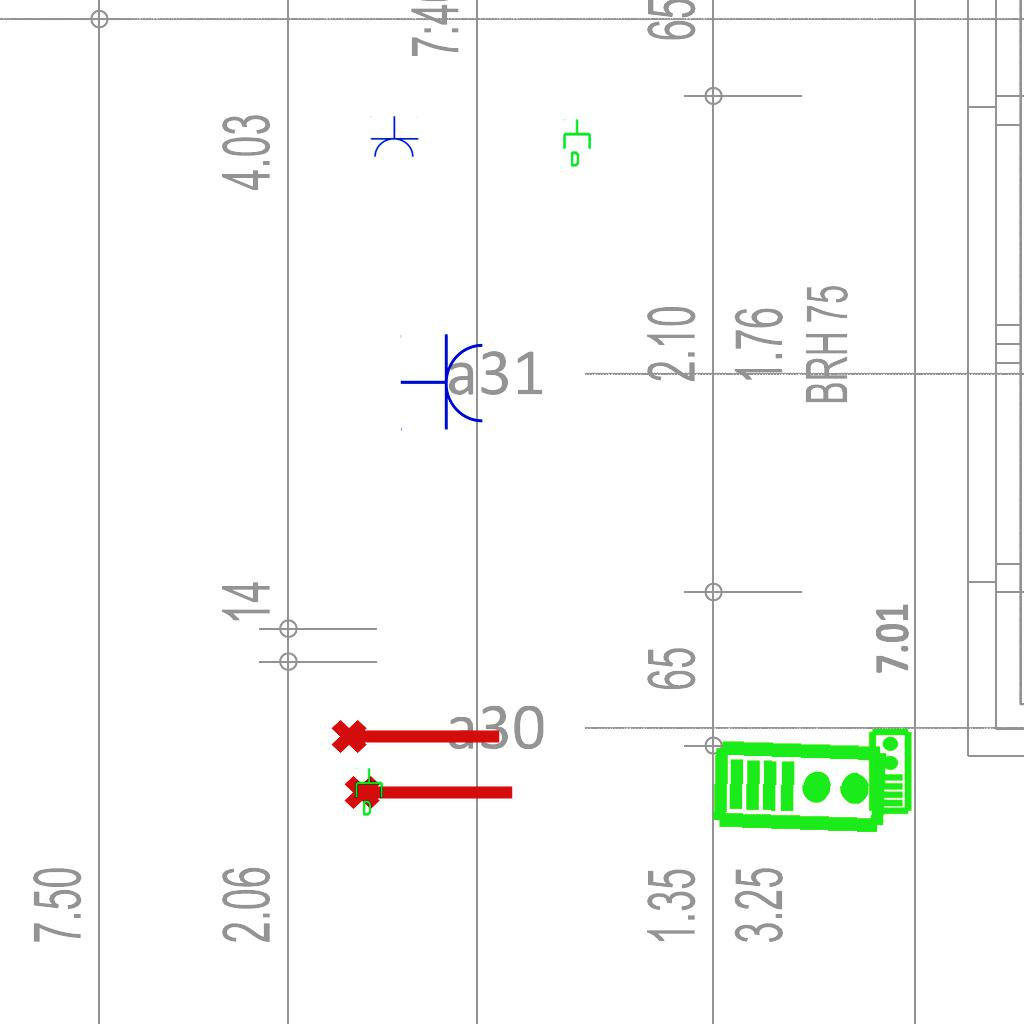ASR_Ansaugoeffnung: (329, 711, 505, 757), (342, 767, 518, 813)
Datenanschluss_einfach: (561, 118, 595, 168), (353, 767, 387, 817)
Gegensprechanlage_mit_Video: (710, 734, 891, 836), (866, 727, 913, 815)
Schukosteckdose_einfach: (400, 333, 487, 433), (369, 116, 419, 159)
